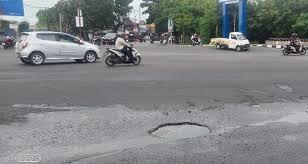Pothole: (142, 112, 218, 146)
